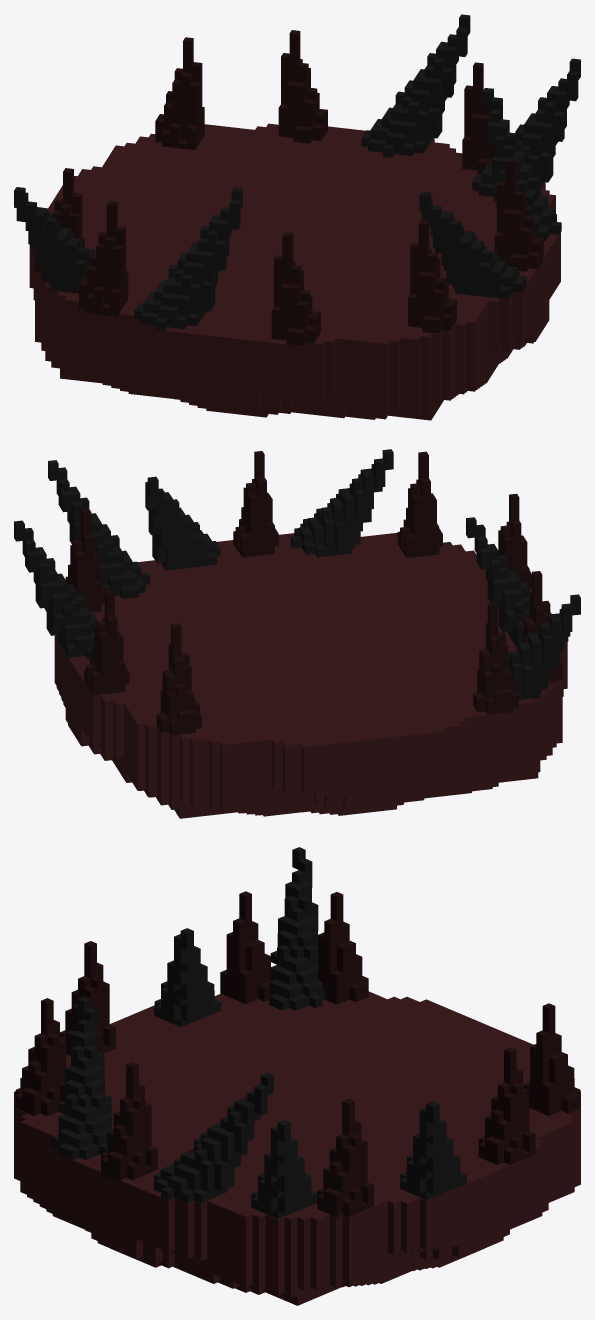
The model's file is Boss arena.fbx.
3 views of the same model, one above another, from view 1: azimuth 30°, elevation 25°; view 2: azimuth 150°, elevation 25°; view 3: azimuth 270°, elevation 25° (orthographic). The views are drawn at different scales.
Visible parts, largest first — view 1: Cube.002, Cone.005, Cone.004, Cone.007, Cone.012, Cone.009, Cone.008, Cone.006, Cone.003, Cone.010, Cone.011, Cone.001 (+3 smaller); view 2: Cube.002, Cone.007, Cone.005, Cone.006, Cone.012, Cone.009, Cone.004, Cone.001, Cone.002, Cone.013, Cone.011, Cone.010 (+3 smaller); view 3: Cube.002, Cone.006, Cone.007, Cone.009, Cone.013, Cone, Cone.011, Cone.005, Cone.004, Cone.012, Cone.010, Cone.001 (+3 smaller).
Part boxes in pixels (box(x1,y1,x2,y2)): Cube.002: box(29, 123, 560, 420); Cone.005: box(361, 14, 470, 157); Cone.004: box(134, 187, 242, 330); Cone.007: box(419, 191, 526, 299); Cone.012: box(472, 58, 580, 201); Cone.009: box(14, 187, 95, 293); Cone.008: box(79, 201, 128, 316); Cone.006: box(482, 88, 561, 241); Cone.003: box(271, 232, 320, 348); Cone.010: box(408, 220, 456, 333); Cone.011: box(278, 30, 327, 143); Cone.001: box(155, 37, 204, 150); Cube.002: box(54, 532, 567, 818); Cone.007: box(290, 449, 393, 557); Cone.005: box(14, 520, 98, 659); Cone.006: box(145, 476, 220, 570); Cone.012: box(48, 460, 149, 598); Cone.009: box(508, 594, 580, 699); Cone.004: box(466, 517, 568, 649); Cone.001: box(156, 623, 201, 735); Cone.002: box(473, 602, 518, 714); Cone.013: box(233, 451, 278, 557); Cone.011: box(84, 589, 129, 695); Cone.010: box(397, 451, 442, 557); Cube.002: box(14, 991, 580, 1305); Cone.006: box(154, 1072, 273, 1203); Cone.007: box(52, 996, 112, 1159); Cone.009: box(269, 847, 324, 1010); Cone.013: box(101, 1062, 157, 1181); Cone: box(317, 1098, 373, 1219); Cone.011: box(478, 1047, 535, 1164); Cone.005: box(400, 1101, 466, 1199); Cone.004: box(154, 928, 221, 1026); Cone.012: box(251, 1120, 316, 1218); Cone.010: box(15, 998, 66, 1116); Cone.001: box(523, 1003, 580, 1115).
Bounding box in the file's own units: 5010 × 1696 × 4310.
